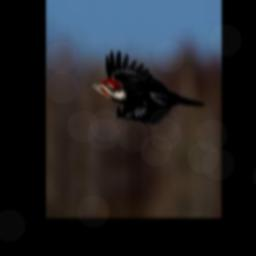Woodpecker: (87, 49, 205, 125)
